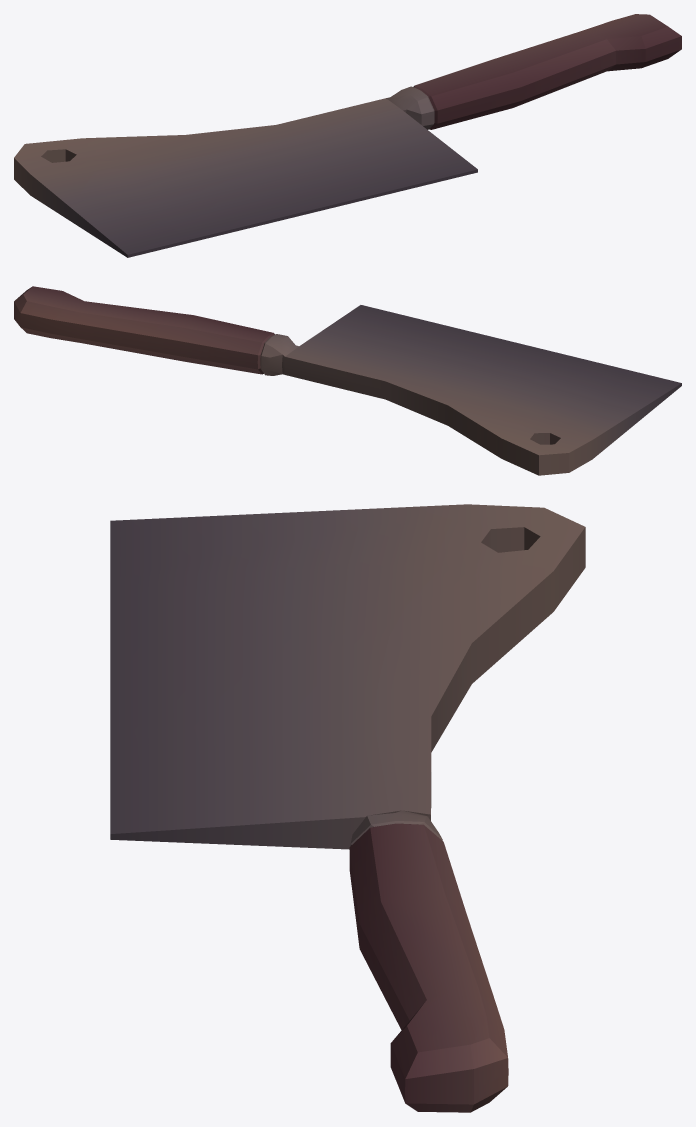
Rendered from SM_Cleaver.fbx.
The picture shows the model from 3 angles, top to bottom: view 1: azimuth 30°, elevation 25°; view 2: azimuth 150°, elevation 25°; view 3: azimuth 270°, elevation 25°; orthographic projection. The views are drawn at different scales.
Parts seen in each view (by area): view 1: Cleaver; view 2: Cleaver; view 3: Cleaver.
Boxes of the visible parts, bbox=[...] form: Cleaver: bbox=[14, 14, 681, 257]; Cleaver: bbox=[14, 286, 681, 475]; Cleaver: bbox=[110, 504, 585, 1112].
Bounding box in the file's own units: 63.78 × 3.8 × 22.55.
